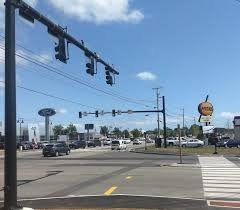crosswalk: (199, 156, 239, 209)
